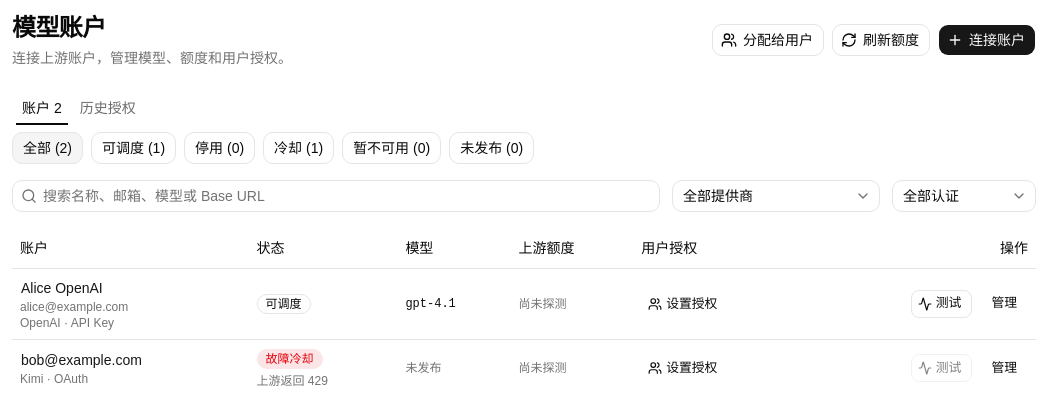
Test: providers view › searches account identity, model, and endpoint
Expected: the button "Alice OpenAI" is shown, [20,276,104,298]
Type "alice@example.com" into the field with placeholder "搜索名称、邮箱、模型或 Base URL".
click(348, 196); type("alice@example.com")  # box [37,180,659,212]
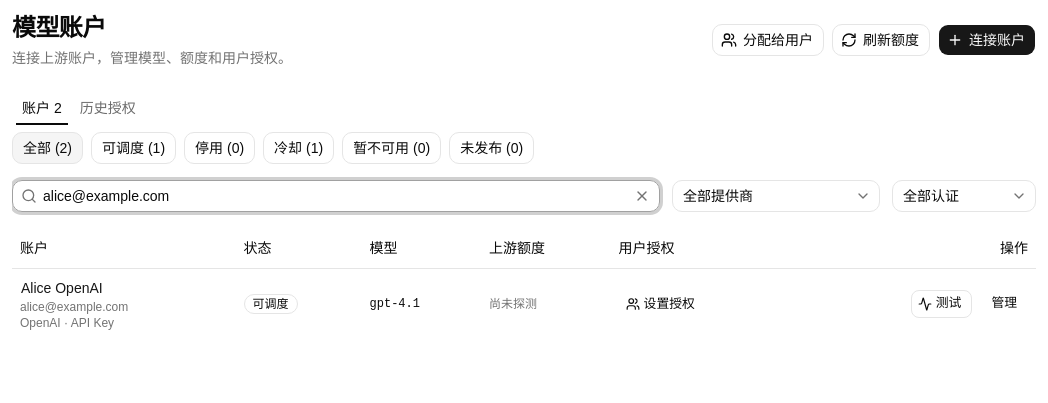
Expected: the button "Alice OpenAI" is shown, [20,276,104,298]
Replace the text in the field with placeholder "搜索名称、邮箱、模型或 Base URL" with "gpt-4.1" at (332, 196), box [37,180,628,212]
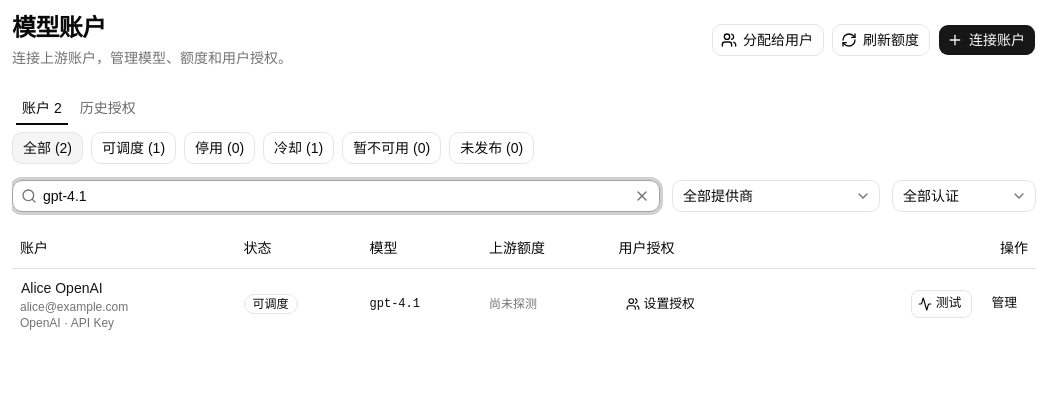
Expected: the button "Alice OpenAI" is shown, [20,276,104,298]
Replace the text in the field with placeholder "搜索名称、邮箱、模型或 Base URL" with "moonshot.cn" at (332, 196), box [37,180,628,212]
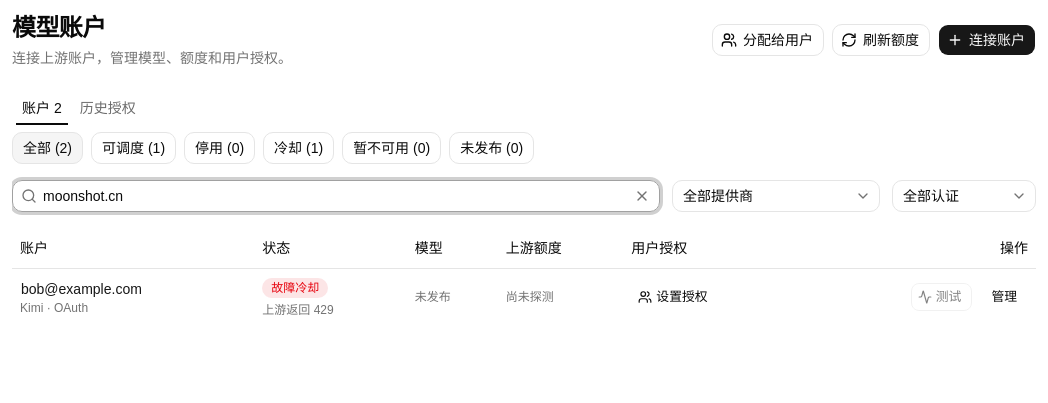
Expected: the button "bob@example.com" is shown, [20,278,143,300]
